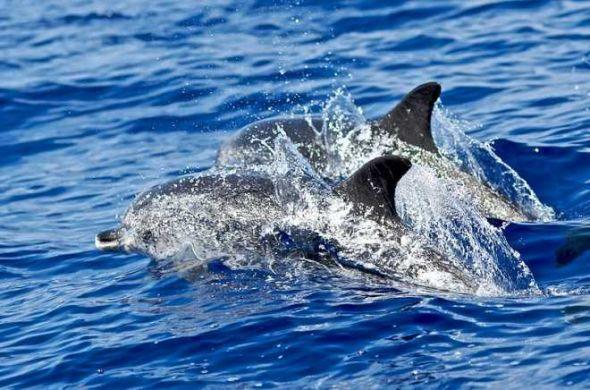fish: (94, 154, 541, 307)
